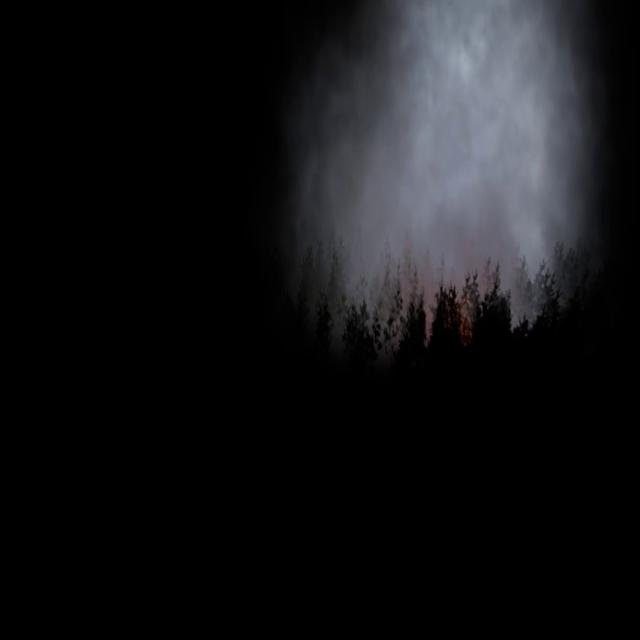smoke: (284, 0, 602, 339)
